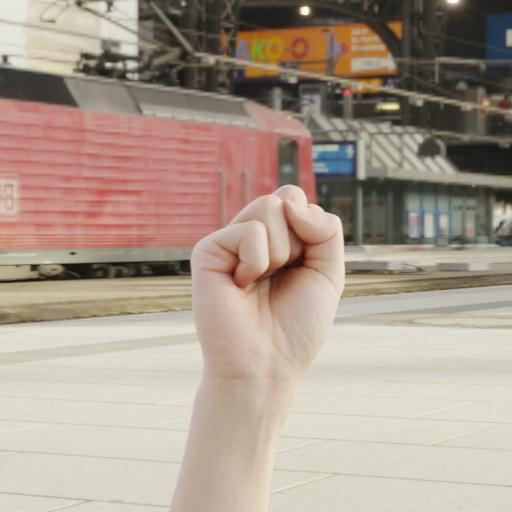S: (181, 179, 354, 405)
